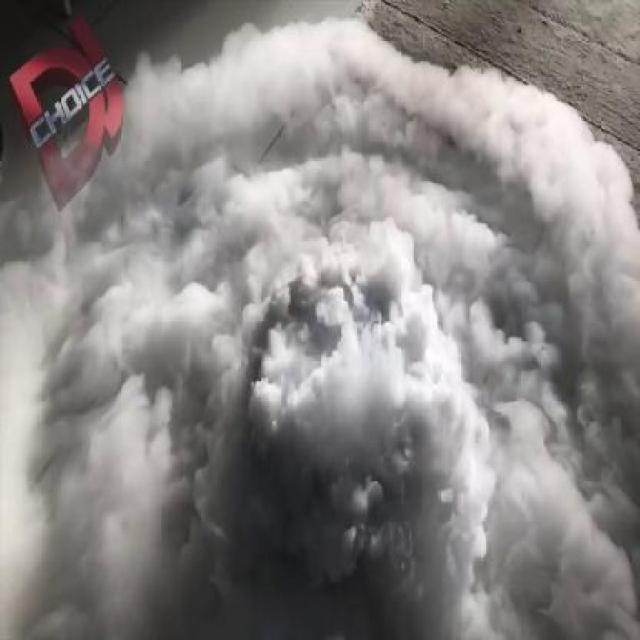smoke: (9, 63, 640, 640)
